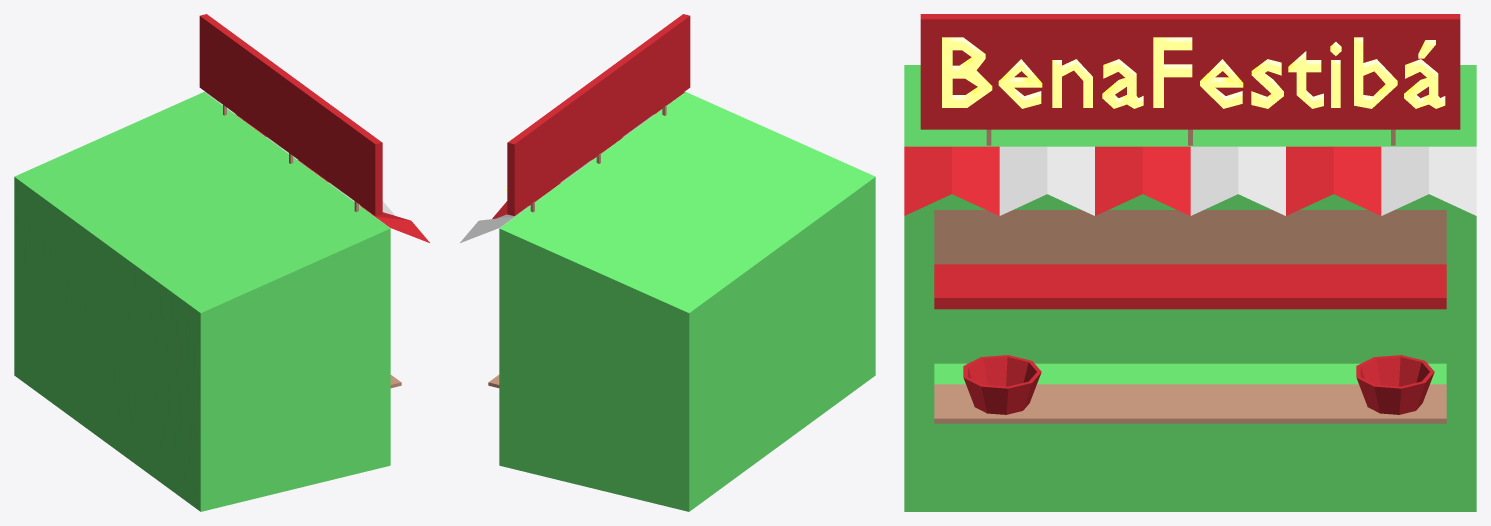
File: VR_StandGlobo.fbx
3 views of the same model, side by side, from view 1: azimuth 30°, elevation 25°; view 2: azimuth 150°, elevation 25°; view 3: azimuth 270°, elevation 25° (orthographic). The views are drawn at different scales.
Visible parts, largest first — view 1: StandGlobo; view 2: StandGlobo; view 3: StandGlobo, text.
Part boxes in pixels (bbox=[...]): StandGlobo: bbox=[14, 14, 429, 511]; StandGlobo: bbox=[460, 14, 875, 511]; StandGlobo: bbox=[904, 14, 1476, 511]; text: bbox=[942, 37, 1445, 108].
Size of the model in its own units: 1211 by 1609 by 1702.
